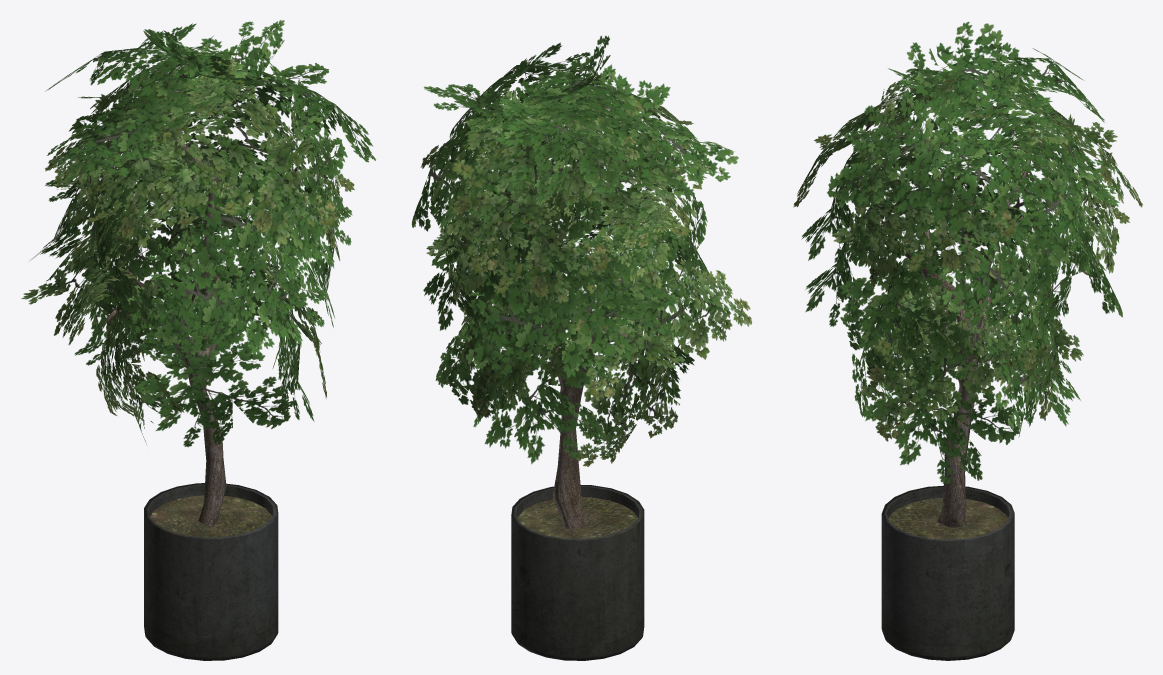
File: Planter_Circular.glb
3 views of the same model, side by side, from view 1: azimuth 30°, elevation 25°; view 2: azimuth 150°, elevation 25°; view 3: azimuth 270°, elevation 25° (orthographic).
Visible parts, largest first — view 1: Planter_Circular__LOD4; view 2: Planter_Circular__LOD4; view 3: Planter_Circular__LOD4.
Boxes of the visible parts, x1=… form: Planter_Circular__LOD4: x1=21, y1=20, x2=375, y2=660; Planter_Circular__LOD4: x1=411, y1=35, x2=751, y2=660; Planter_Circular__LOD4: x1=793, y1=21, x2=1142, y2=660.
Size of the model in its own units: 1.19 by 2.25 by 1.21.
1 material, 1 textured.
